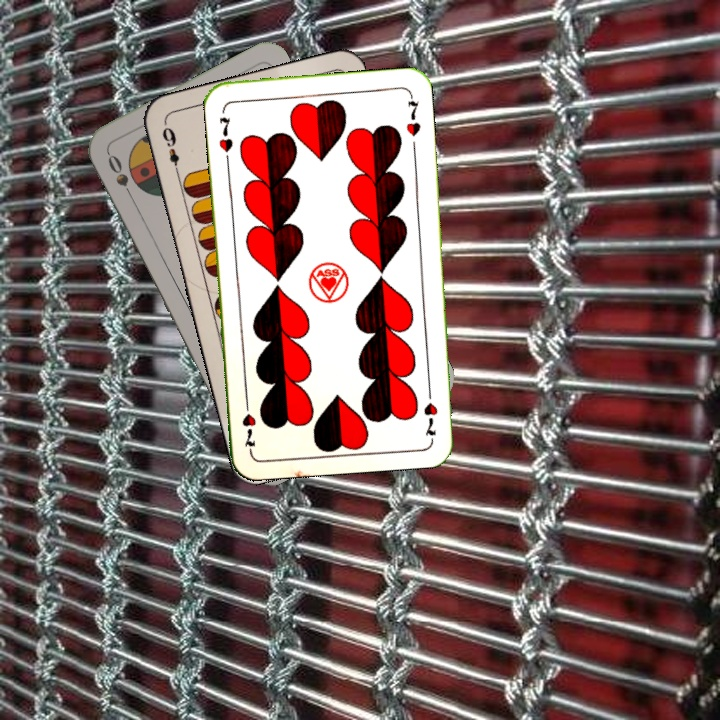E9: (158, 123, 182, 178)
H7: (419, 382, 440, 441), (214, 113, 236, 155)
SO: (103, 149, 138, 204)
